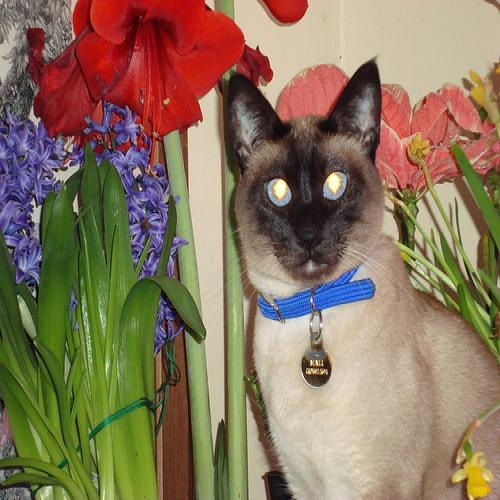siamese: (214, 54, 401, 304)
